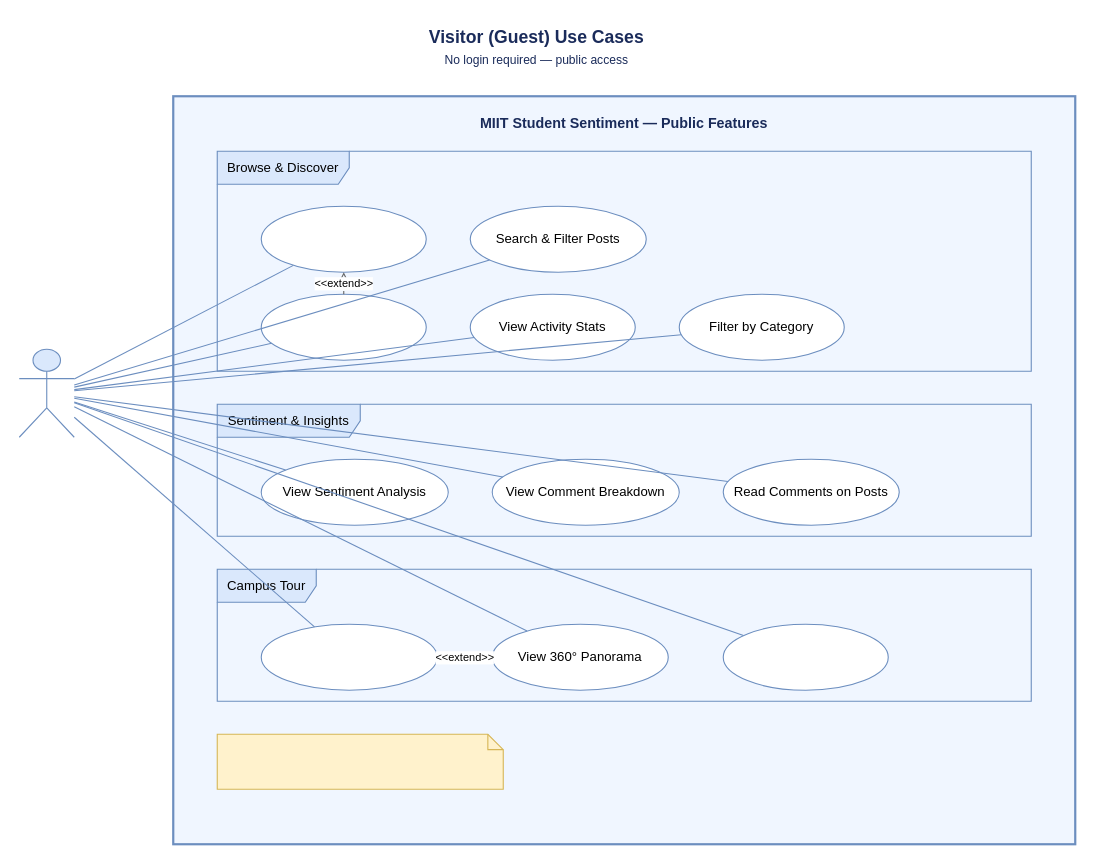
The diagram is 1096 pixels wide and 864 high, and some of its shapes have lost their labels. Here are the shapes that lost their labels. From the top down, the centre of each, then its label:
At (x=343, y=238): "Browse Blog Feed".
At (x=343, y=326): "View Post Details".
At (x=46, y=392): "Visitor (Guest)".
At (x=348, y=656): "Explore Campus Tour".
At (x=805, y=656): "Browse Tour Stops".
At (x=359, y=761): "API: GET /api/posts · GET /api/campus-tour No JWT required".
